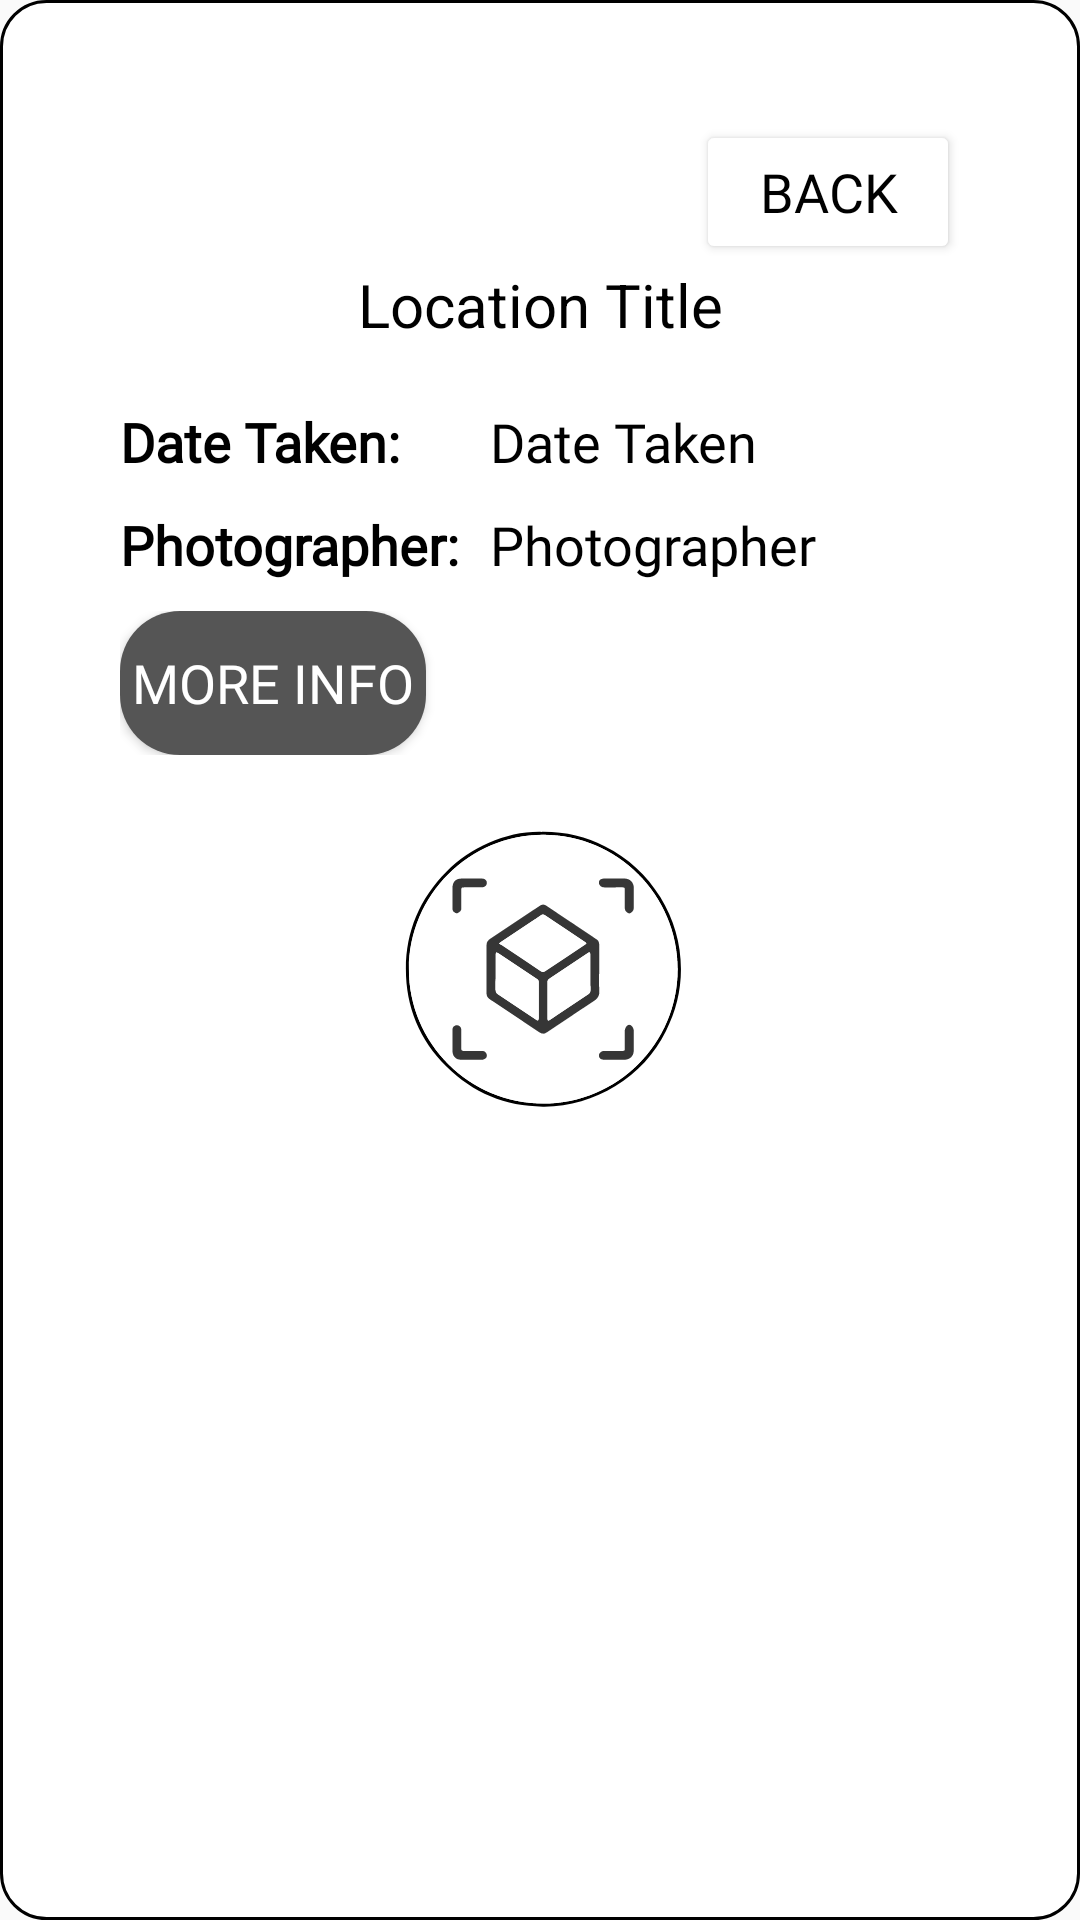

Icons on this 1080w x 1920h Android screen, each with the point to tap as [x,y]:
aricon: [543,969]
